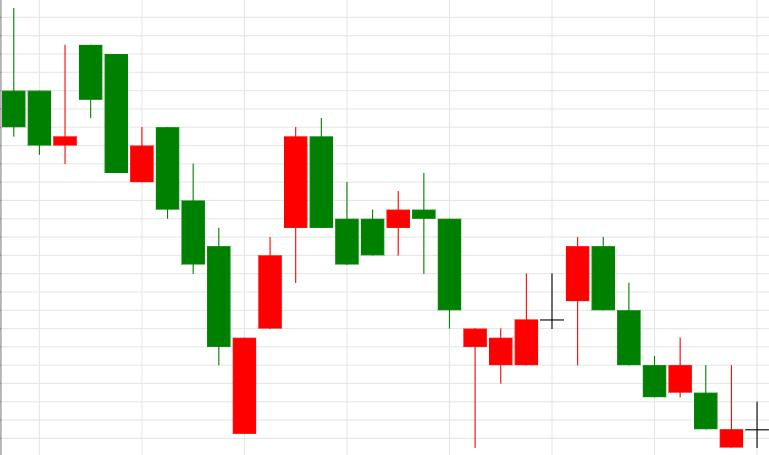three_black_crows_fall: (490, 237, 666, 398)
three_white_soldiers_rise: (79, 45, 307, 434)
